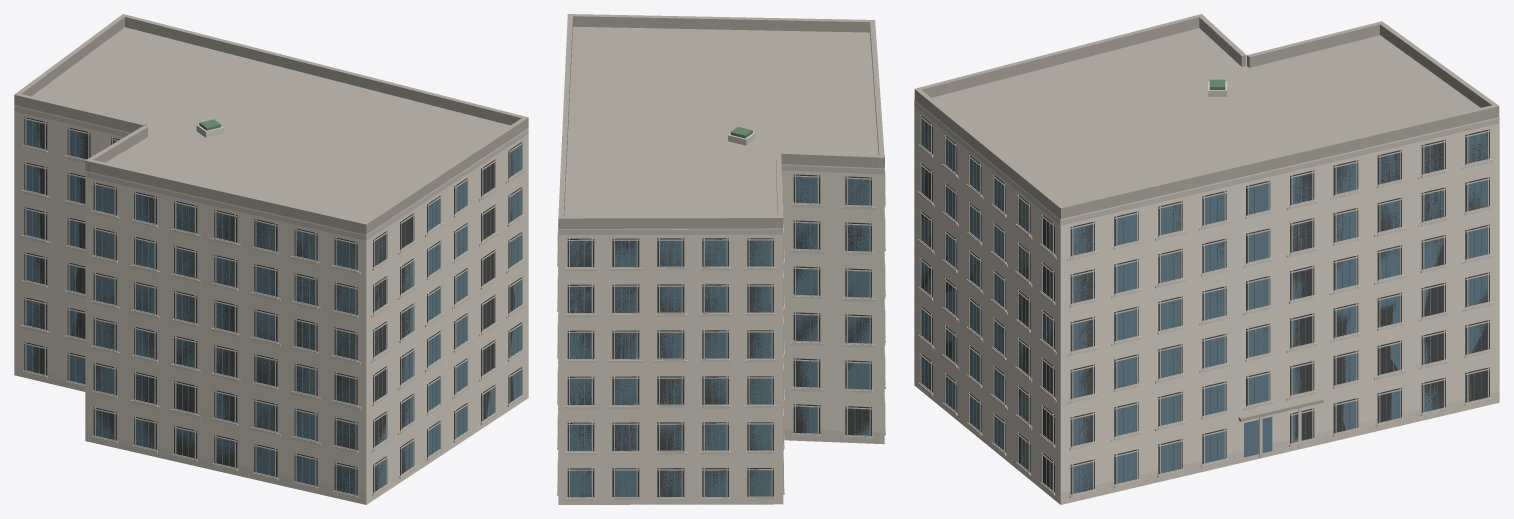
File: cop_residencial_orla_03__way_589316365.fbx
3 renders of one model, left to right at view 1: azimuth 30°, elevation 25°; view 2: azimuth 150°, elevation 25°; view 3: azimuth 270°, elevation 25°, orthographic. The views are drawn at different scales.
Parts seen in each view (by area): view 1: cop_residencial_orla_03__way_589316365_wall, cop_residencial_orla_03__way_589316365_roof, cop_residencial_orla_03__way_589316365_glass, cop_residencial_orla_03__way_589316365_shadow, cop_residencial_orla_03__way_589316365_trim, cop_residencial_orla_03__way_589316365_stone, cop_residencial_orla_03__way_589316365_metal; view 2: cop_residencial_orla_03__way_589316365_roof, cop_residencial_orla_03__way_589316365_wall, cop_residencial_orla_03__way_589316365_glass, cop_residencial_orla_03__way_589316365_shadow, cop_residencial_orla_03__way_589316365_trim, cop_residencial_orla_03__way_589316365_stone, cop_residencial_orla_03__way_589316365_metal; view 3: cop_residencial_orla_03__way_589316365_wall, cop_residencial_orla_03__way_589316365_roof, cop_residencial_orla_03__way_589316365_glass, cop_residencial_orla_03__way_589316365_shadow, cop_residencial_orla_03__way_589316365_trim, cop_residencial_orla_03__way_589316365_stone, cop_residencial_orla_03__way_589316365_metal.
Boxes of the visible parts, x1=… form: cop_residencial_orla_03__way_589316365_wall: x1=14, y1=105, x2=528, y2=504; cop_residencial_orla_03__way_589316365_roof: x1=14, y1=14, x2=528, y2=234; cop_residencial_orla_03__way_589316365_glass: x1=26, y1=120, x2=521, y2=494; cop_residencial_orla_03__way_589316365_shadow: x1=24, y1=117, x2=522, y2=495; cop_residencial_orla_03__way_589316365_trim: x1=14, y1=106, x2=528, y2=496; cop_residencial_orla_03__way_589316365_stone: x1=14, y1=125, x2=524, y2=504; cop_residencial_orla_03__way_589316365_metal: x1=32, y1=121, x2=517, y2=493; cop_residencial_orla_03__way_589316365_roof: x1=558, y1=14, x2=884, y2=228; cop_residencial_orla_03__way_589316365_wall: x1=558, y1=164, x2=884, y2=504; cop_residencial_orla_03__way_589316365_glass: x1=570, y1=177, x2=869, y2=497; cop_residencial_orla_03__way_589316365_shadow: x1=567, y1=174, x2=871, y2=497; cop_residencial_orla_03__way_589316365_trim: x1=557, y1=165, x2=885, y2=498; cop_residencial_orla_03__way_589316365_stone: x1=557, y1=132, x2=885, y2=504; cop_residencial_orla_03__way_589316365_metal: x1=577, y1=177, x2=862, y2=497; cop_residencial_orla_03__way_589316365_wall: x1=914, y1=100, x2=1499, y2=504; cop_residencial_orla_03__way_589316365_roof: x1=914, y1=14, x2=1499, y2=421; cop_residencial_orla_03__way_589316365_glass: x1=921, y1=119, x2=1487, y2=493; cop_residencial_orla_03__way_589316365_shadow: x1=920, y1=114, x2=1489, y2=495; cop_residencial_orla_03__way_589316365_trim: x1=914, y1=101, x2=1499, y2=495; cop_residencial_orla_03__way_589316365_stone: x1=917, y1=81, x2=1499, y2=504; cop_residencial_orla_03__way_589316365_metal: x1=924, y1=121, x2=1481, y2=492.
Bounding box in the file's own units: 2627 × 1869 × 3340.
